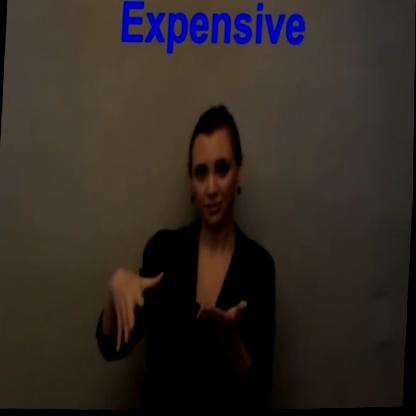Expensive: (99, 251, 254, 357)
